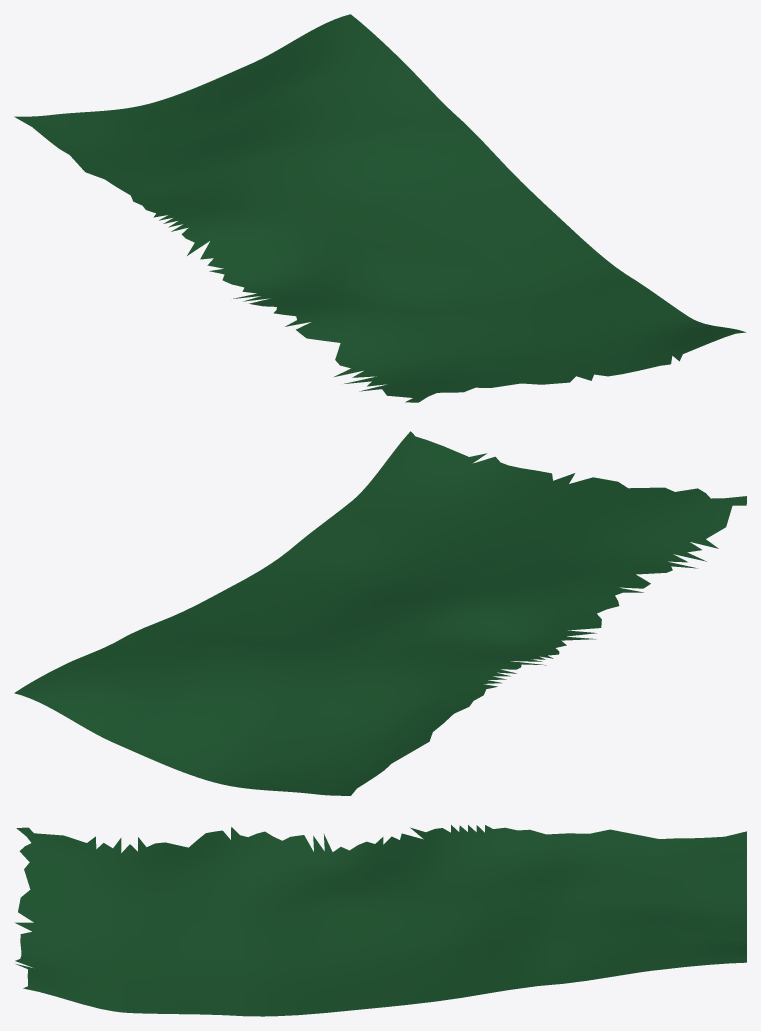
Rendered from payo_land_xm5_ym3.glb.
The picture shows the model from 3 angles, top to bottom: view 1: azimuth 30°, elevation 25°; view 2: azimuth 150°, elevation 25°; view 3: azimuth 270°, elevation 25°; orthographic projection. The views are drawn at different scales.
Visible parts, largest first — view 1: payo_land_xm5_ym3; view 2: payo_land_xm5_ym3; view 3: payo_land_xm5_ym3.
Boxes of the visible parts, x1,y1,x2,y2 form: payo_land_xm5_ym3: [14, 14, 745, 402]; payo_land_xm5_ym3: [14, 431, 746, 795]; payo_land_xm5_ym3: [15, 825, 746, 1016].
Bounding box in the file's own units: 131 × 21.26 × 260.
